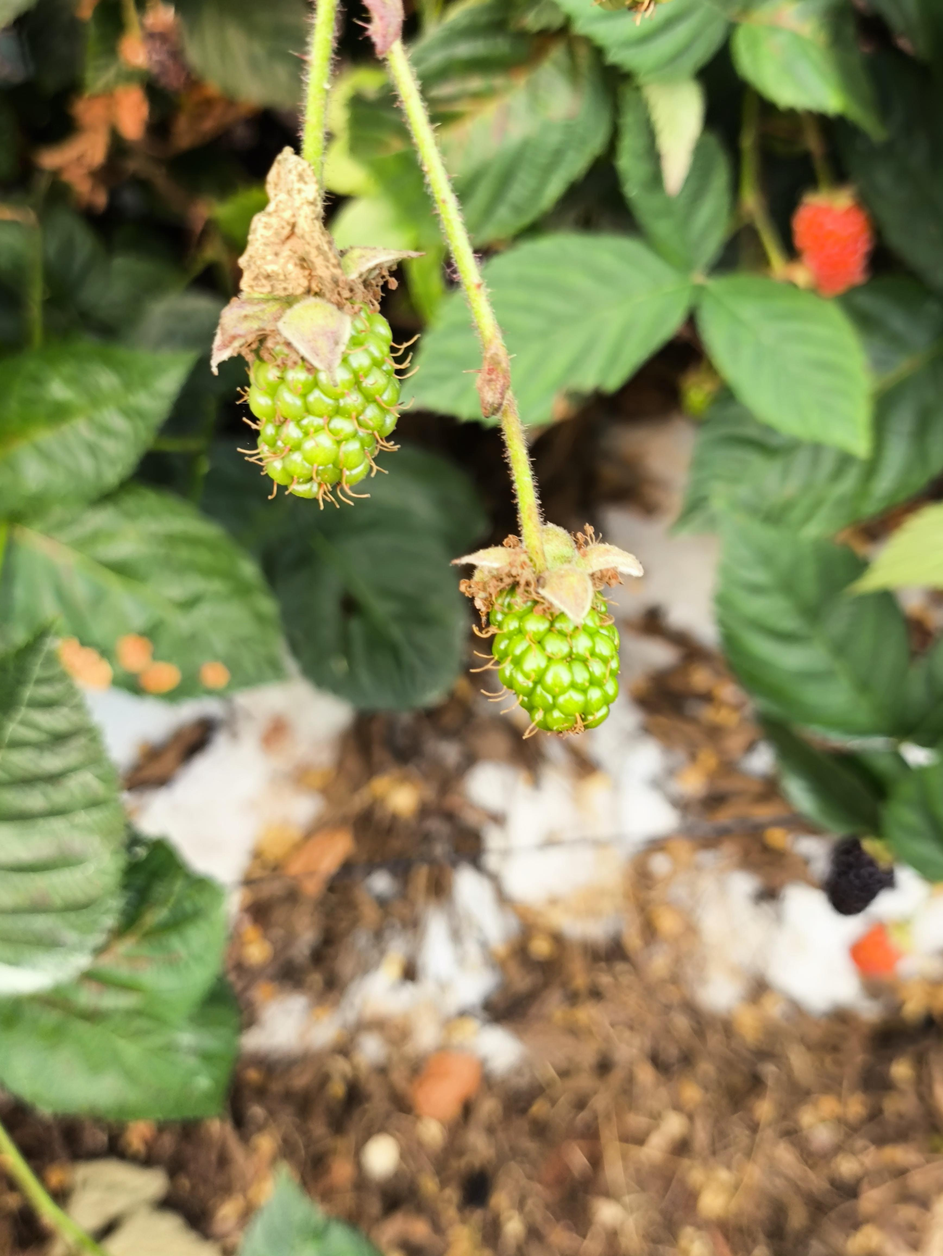naranja: (793, 190, 873, 296)
verde: (214, 297, 400, 504), (465, 528, 639, 734)
